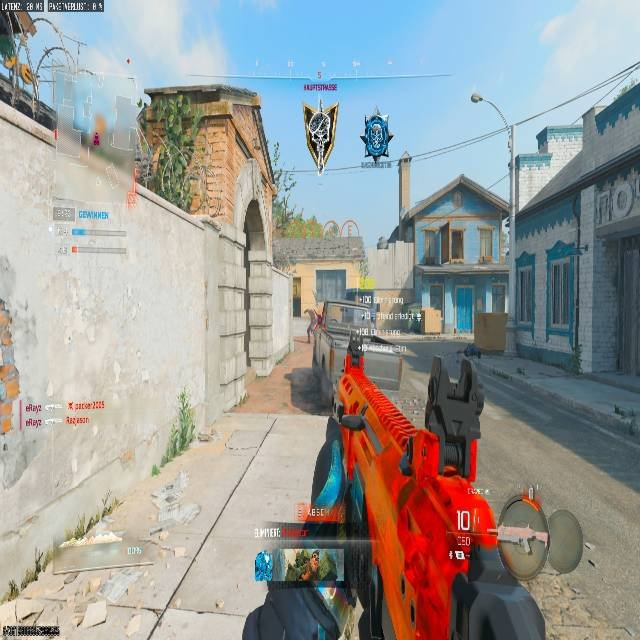player: (361, 111, 392, 164), (303, 306, 318, 344)
